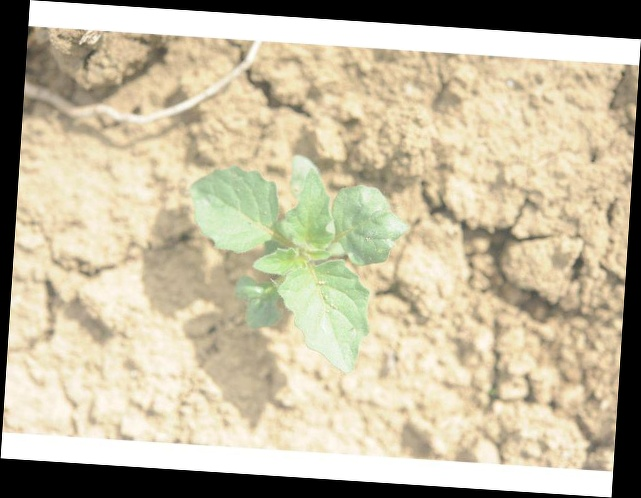nightshade: (183, 156, 407, 370)
